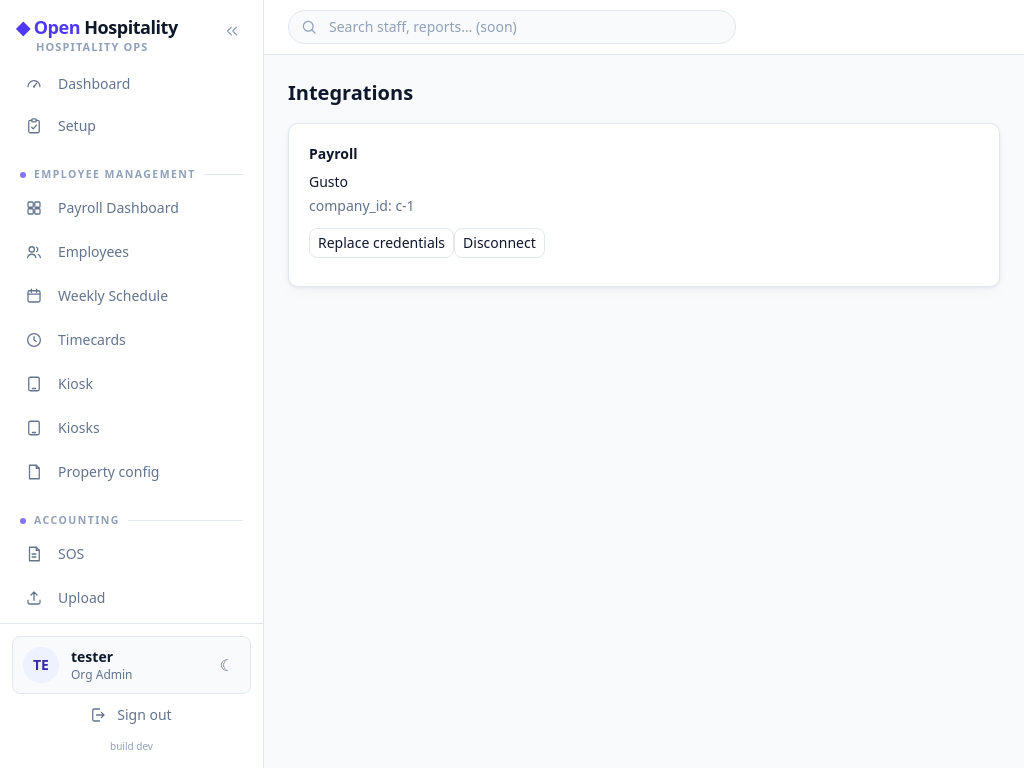
IntegrationsPage › closes the replace form once the new credential is accepted
The image size is (1024, 768).
Click the button "Replace credentials". click: (382, 243)
box: [309,228,454,258]
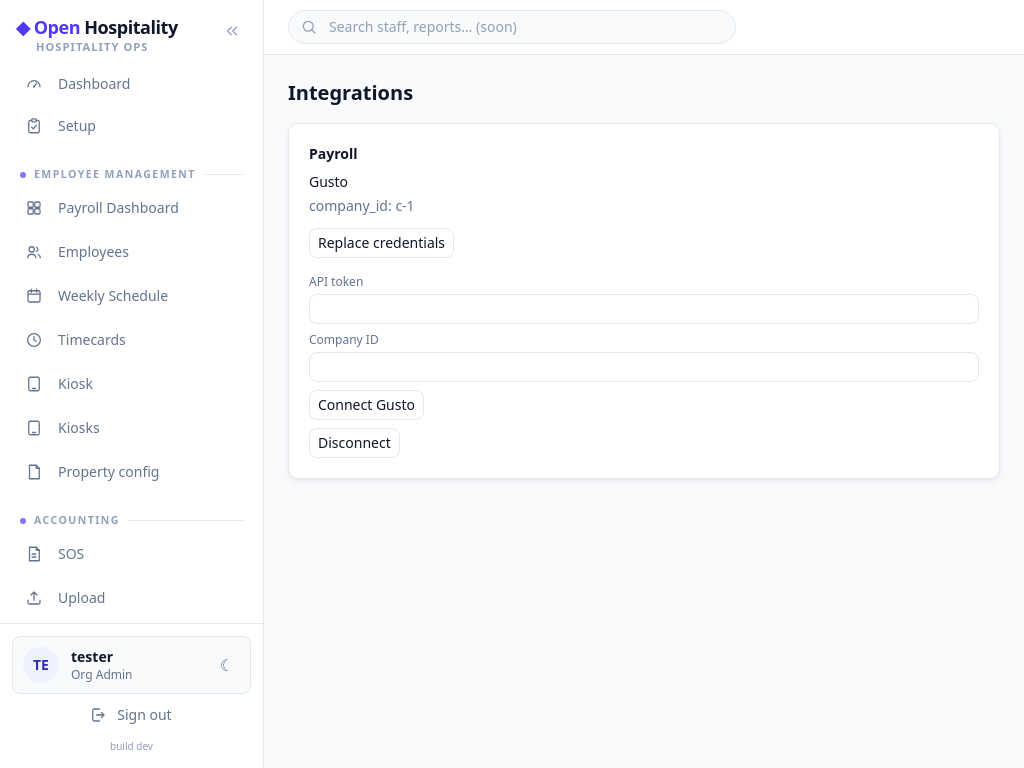
Type "tok-2" into the password field labelled "API token". click: (644, 309)
box: [309,294,979,324]
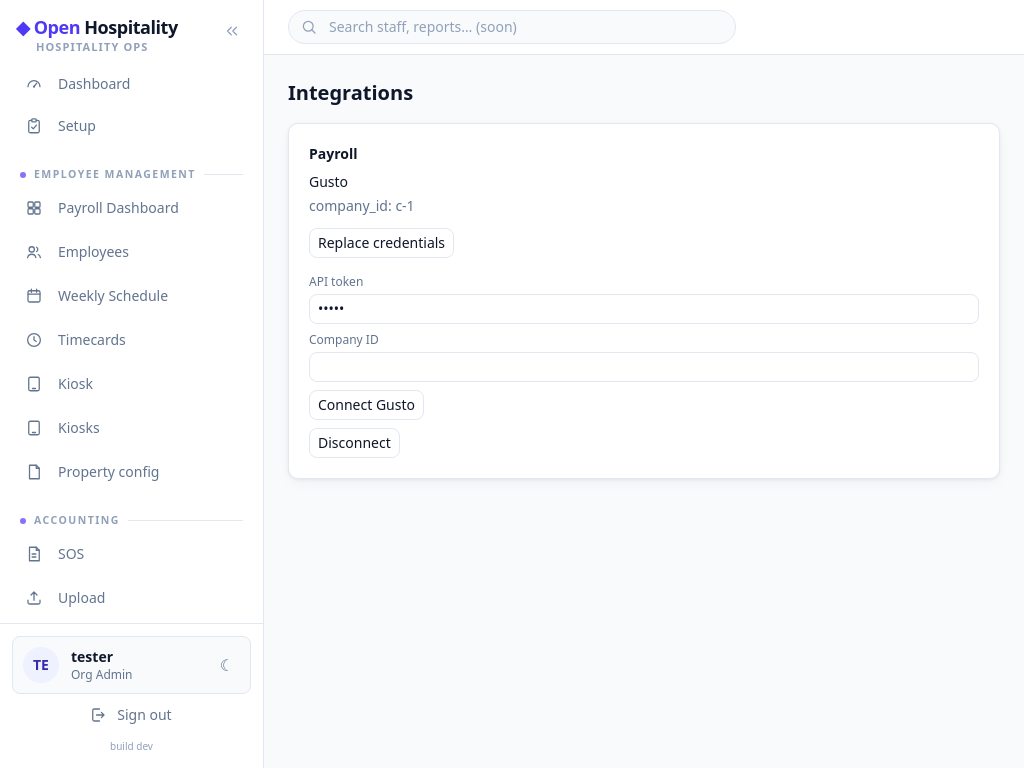
Type "c-1" into the field labelled "Company ID". click: (644, 367)
box: [309,352,979,382]
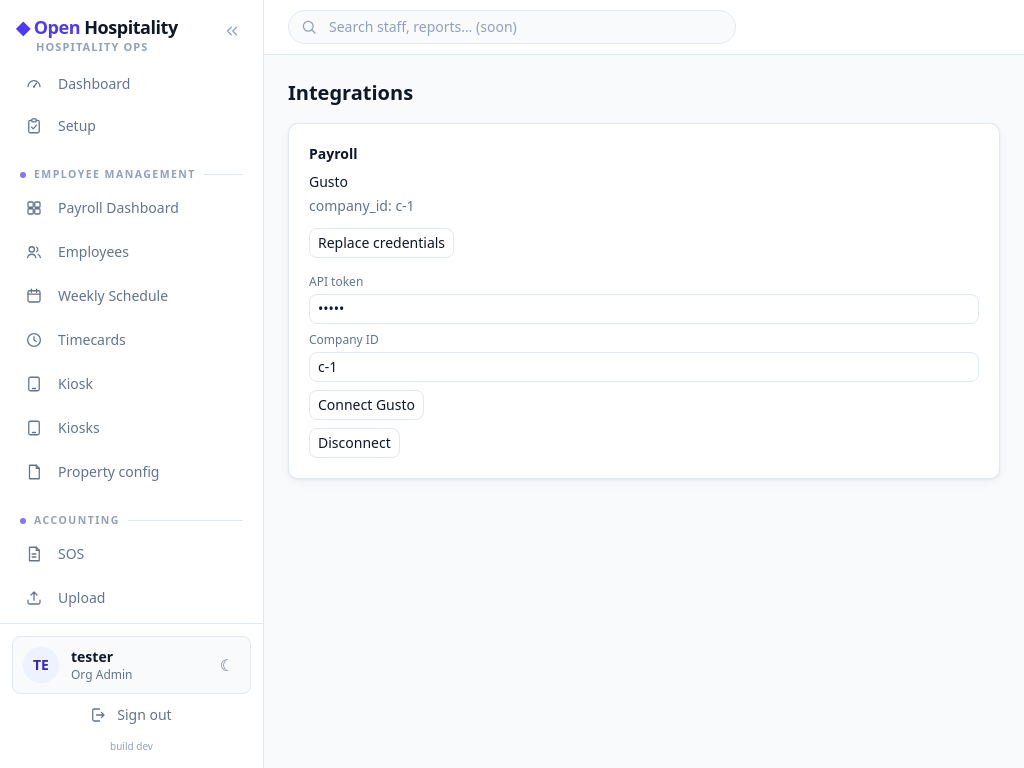
Click the button "Connect Gusto". click: (366, 405)
box: [309,390,424,420]
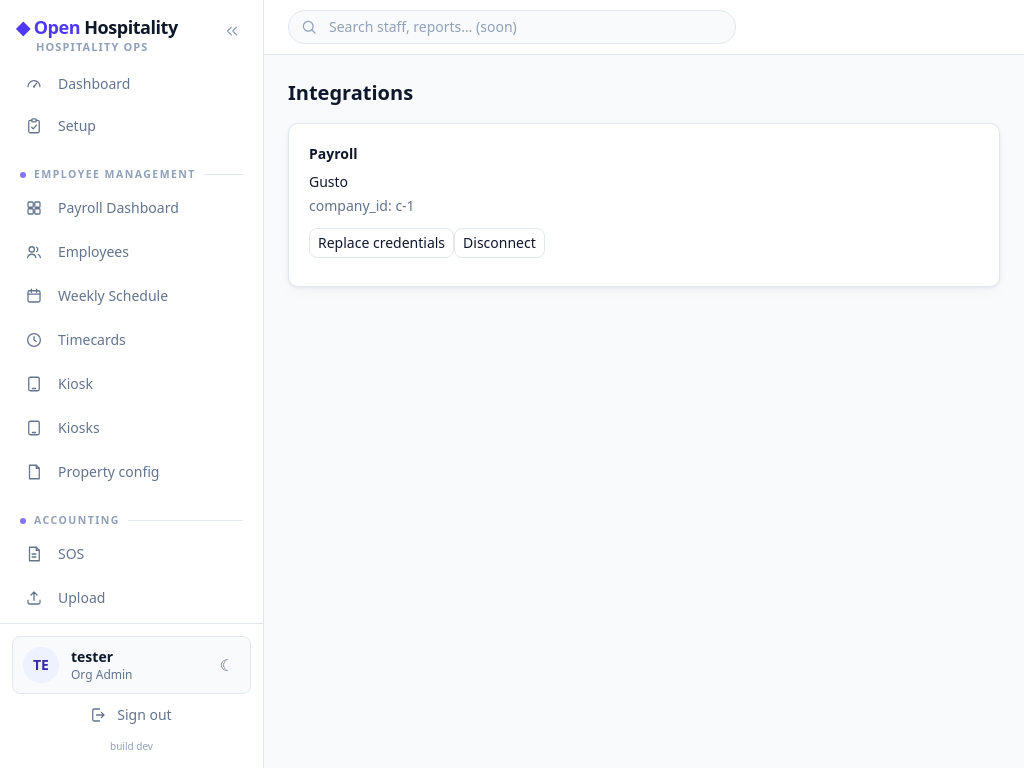
Expected: the text labelled "API token" is gone
